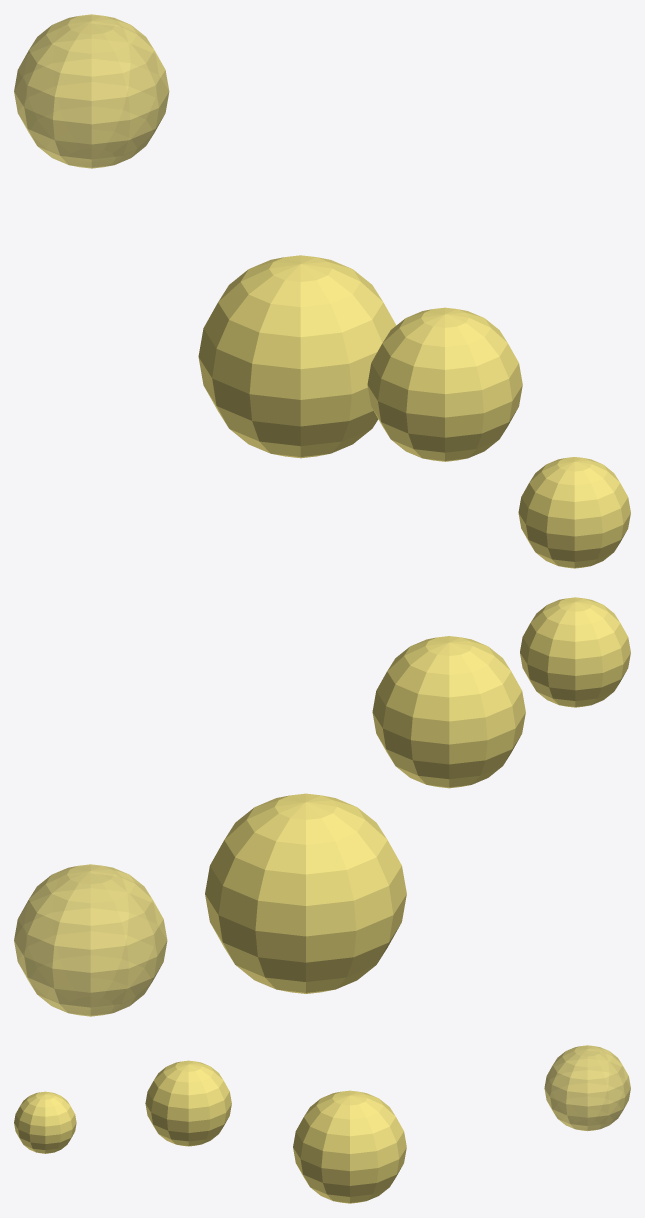
File: Light_Balls.obj
3 renders of one model, top to bottom at view 1: azimuth 30°, elevation 25°; view 2: azimuth 150°, elevation 25°; view 3: azimuth 270°, elevation 25°, orthographic. The views are drawn at different scales.
Parts seen in each view (by area): view 1: Sphere.001, Sphere, Sphere.002, Sphere.003; view 2: Sphere.001, Sphere.002, Sphere, Sphere.003; view 3: Sphere.001, Sphere.002, Sphere, Sphere.003.
Part boxes in pixels (x1,y1,x2,y2): Sphere.001: (198,255,396,458); Sphere: (14,14,169,168); Sphere.002: (367,307,522,461); Sphere.003: (518,457,630,568); Sphere.001: (205,793,406,993); Sphere.002: (372,636,525,788); Sphere: (14,864,167,1016); Sphere.003: (520,597,630,707); Sphere.001: (293,1090,406,1203); Sphere.002: (145,1060,231,1146); Sphere: (544,1045,630,1131); Sphere.003: (14,1091,76,1153).
Size of the model in its own units: 3.42 by 5 by 18.53.
Materials: 4 (4 with a texture image).
